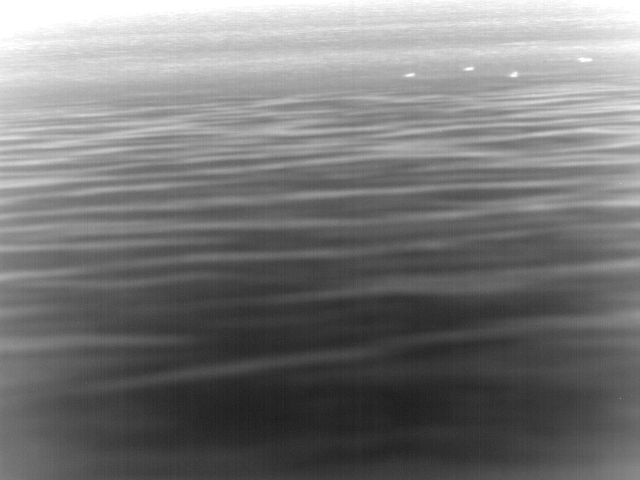dim target: (577, 56, 593, 63), (463, 66, 475, 72), (403, 72, 414, 78), (509, 71, 518, 78)
